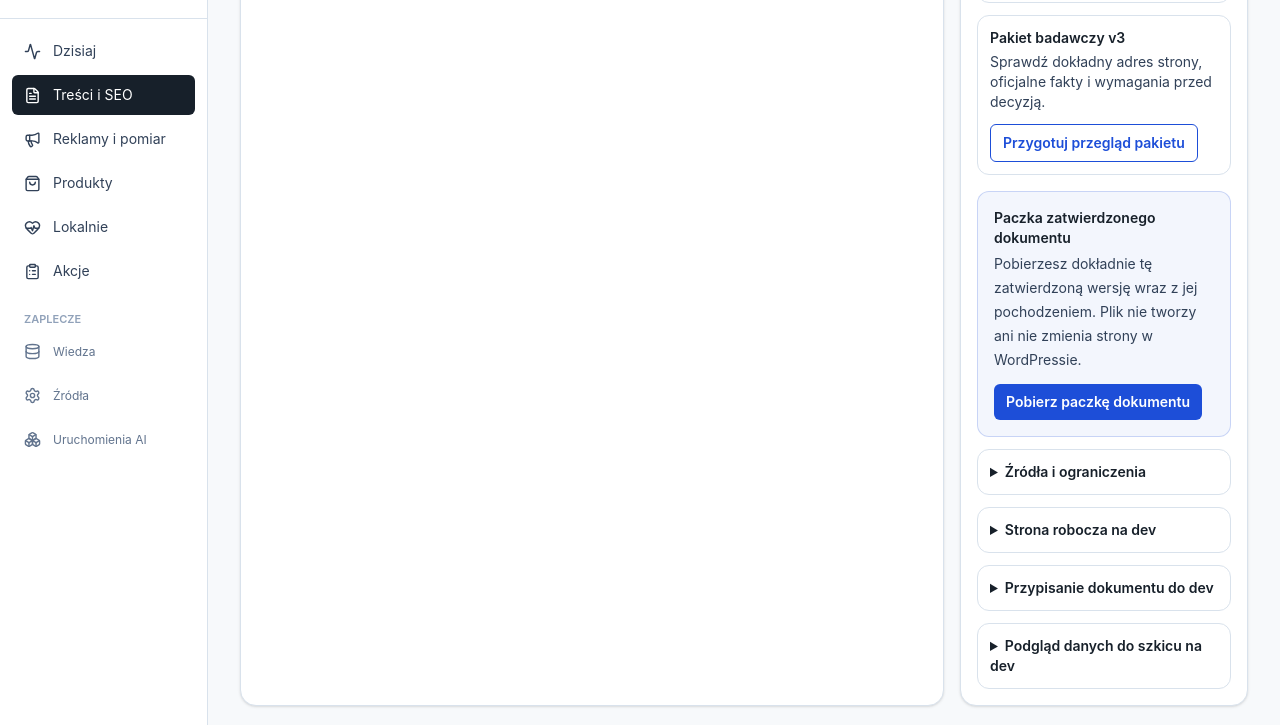
Test: ContentWorkflowSurface › does not prepare a dev-draft action until the marketer opens its explicit preview
(page scrolled)
Click the heading "Podgląd danych do szkicu na dev" at coordinates (1104, 656), box x1=990 y1=636 x2=1218 y2=676
(page scrolled)
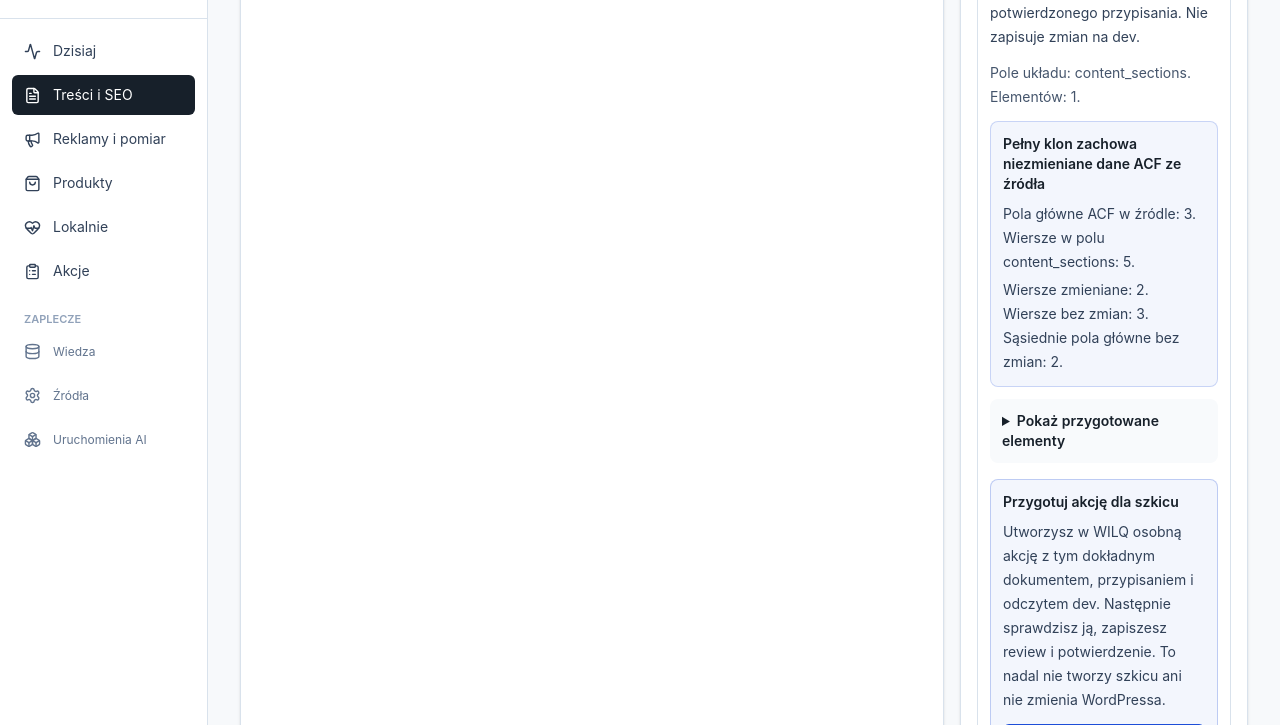
Result: the text "Pełny klon zachowa niezmieniane dane ACF ze źródła" is shown at x1=1003 y1=134 x2=1205 y2=194
